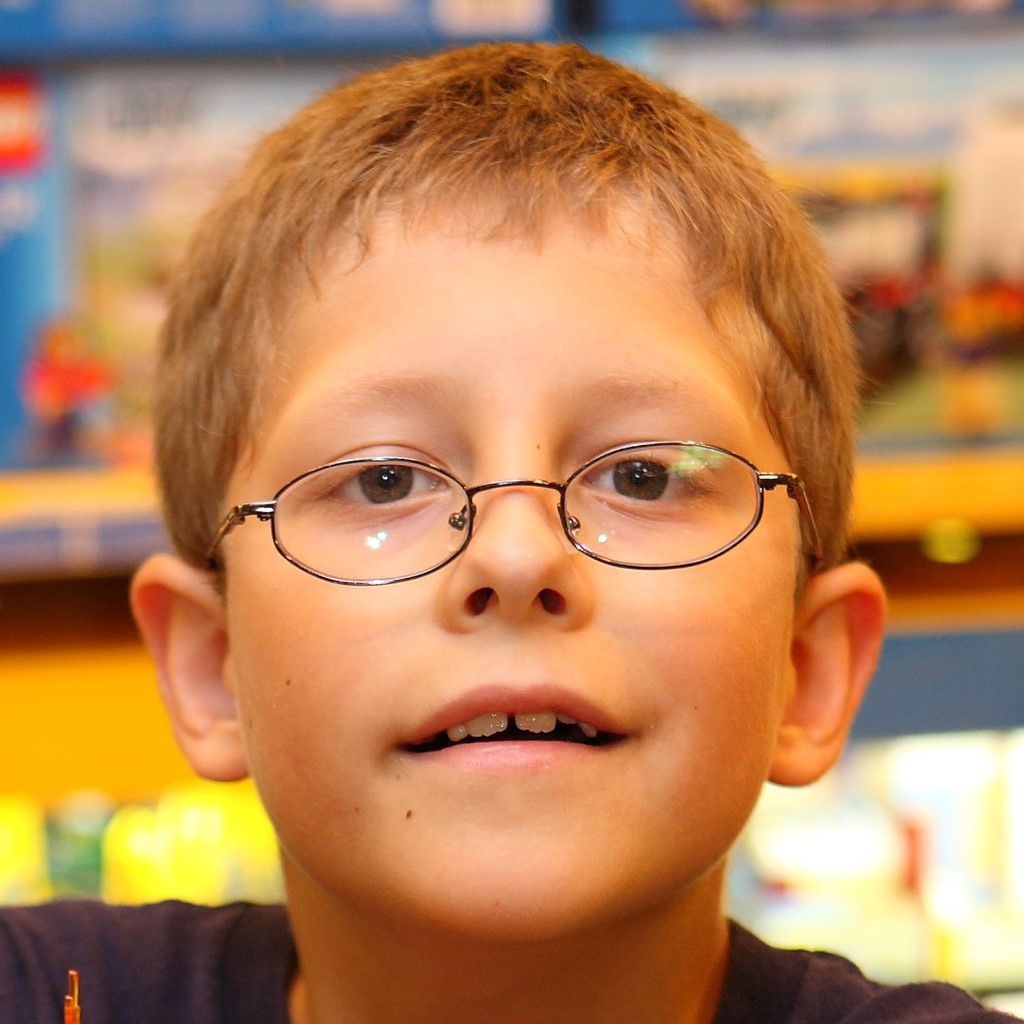sin_mascara: (188, 123, 827, 956)
